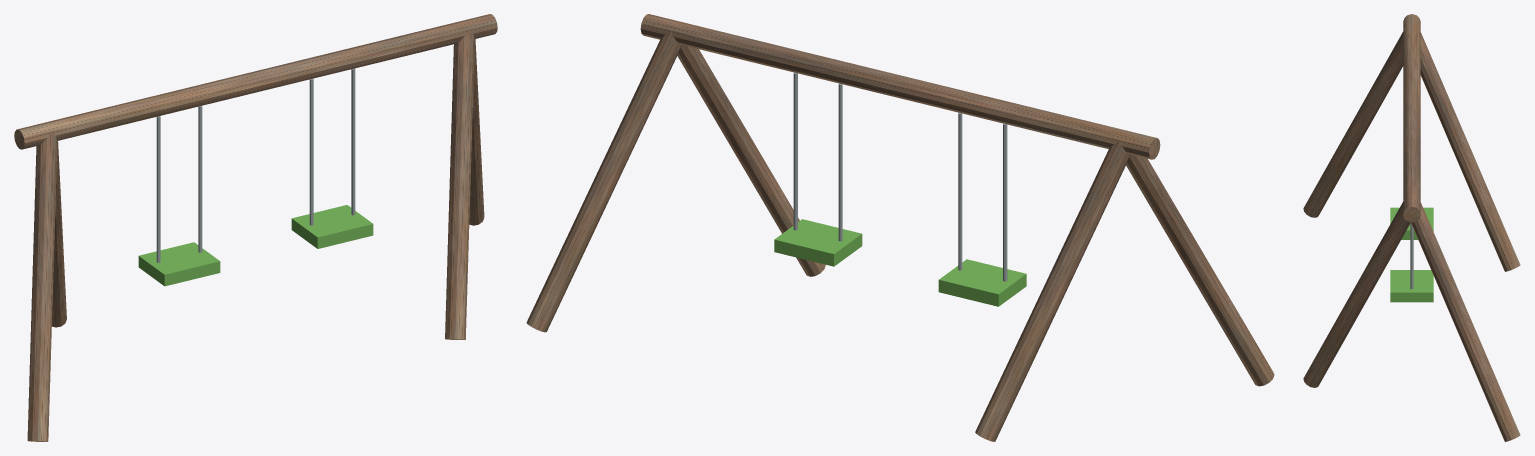
The model's file is accessible-swing-bay.glb.
The picture shows the model from 3 angles, left to right: view 1: azimuth 30°, elevation 25°; view 2: azimuth 150°, elevation 25°; view 3: azimuth 270°, elevation 25°; orthographic projection. The views are drawn at different scales.
Parts seen in each view (by area): view 1: Swing beam, Swing A post, Swing A post.002, Inclusive swing seat, Inclusive swing seat.001, Swing A post.001, Swing A post.003, Swing chain.003, Swing chain.002, Swing chain, Swing chain.001; view 2: Swing beam, Swing A post.001, Swing A post.003, Swing A post, Swing A post.002, Inclusive swing seat.001, Inclusive swing seat, Swing chain, Swing chain.002, Swing chain.003, Swing chain.001; view 3: Swing A post.003, Swing A post.001, Swing beam, Swing A post.002, Swing A post, Inclusive swing seat.001, Inclusive swing seat, Swing chain.003.
Part boxes in pixels (x1,y1,x2,y2): Swing beam: (14, 14, 497, 149); Swing A post: (27, 132, 57, 441); Swing A post.002: (445, 30, 474, 339); Inclusive swing seat: (138, 242, 220, 286); Inclusive swing seat.001: (291, 205, 373, 248); Swing A post.001: (52, 141, 66, 327); Swing A post.003: (469, 39, 484, 225); Swing chain.003: (351, 68, 355, 215); Swing chain.002: (309, 78, 313, 225); Swing chain: (156, 116, 160, 262); Swing chain.001: (198, 106, 202, 252); Swing beam: (640, 14, 1160, 159); Swing A post.001: (975, 141, 1129, 441); Swing A post.003: (526, 31, 680, 332); Swing A post: (1126, 154, 1274, 386); Swing A post.002: (677, 45, 825, 276); Inclusive swing seat.001: (774, 219, 862, 266); Inclusive swing seat: (938, 259, 1026, 306); Swing chain: (1003, 123, 1007, 281); Swing chain.002: (838, 83, 842, 241); Swing chain.003: (793, 72, 797, 230); Swing chain.001: (958, 112, 962, 270); Swing A post.003: (1411, 200, 1520, 441); Swing A post.001: (1419, 30, 1520, 271); Swing beam: (1403, 14, 1420, 222); Swing A post.002: (1303, 200, 1410, 387); Swing A post: (1303, 30, 1403, 217); Inclusive swing seat.001: (1390, 270, 1433, 302); Inclusive swing seat: (1390, 207, 1433, 239); Swing chain.003: (1410, 223, 1413, 289).
Bounding box in the file's own units: 8.25 × 3.59 × 3.24.
3 materials, 1 textured.
